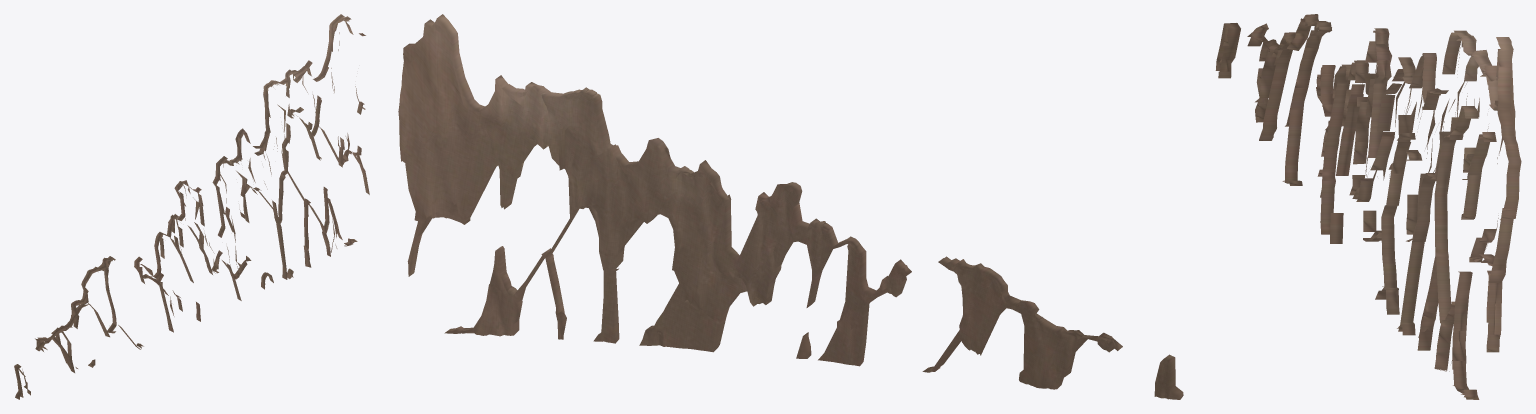
3 renders of one model, left to right at view 1: azimuth 30°, elevation 25°; view 2: azimuth 150°, elevation 25°; view 3: azimuth 270°, elevation 25°, orthographic. The views are drawn at different scales.
Size of the model in its own units: 0.6441 by 0.3105 by 0.2418.
Materials: 1 (1 with a texture image).
